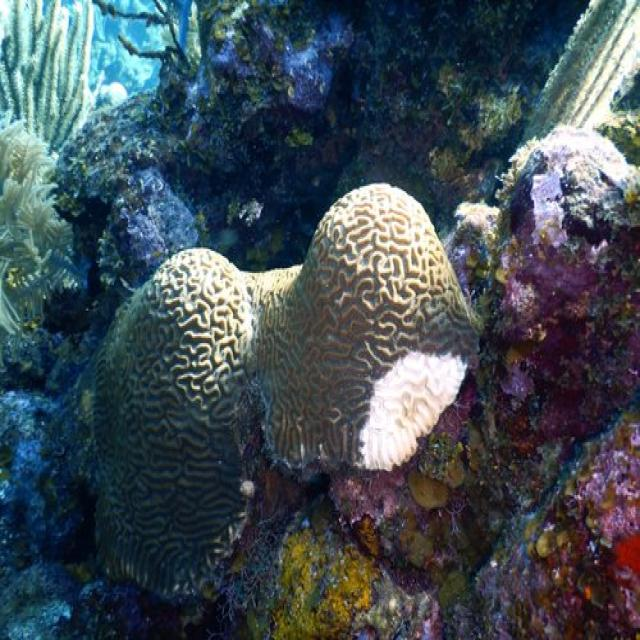Coral: (67, 179, 486, 596), (0, 106, 74, 339), (0, 0, 96, 159)
